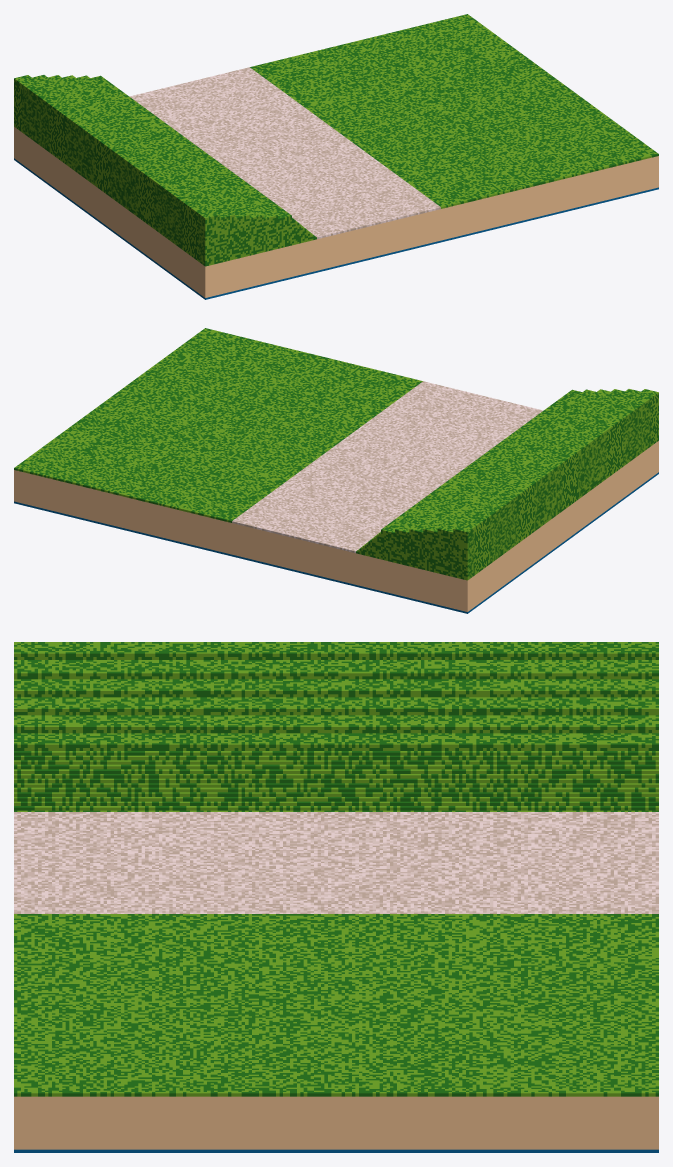
The model's file is castelloVillafranca-12.obj.
3 renders of one model, top to bottom at view 1: azimuth 30°, elevation 25°; view 2: azimuth 150°, elevation 25°; view 3: azimuth 270°, elevation 25°, orthographic. The views are drawn at different scales.
Size of the model in its own units: 25.6 by 4.4 by 18.7.
Materials: 1 (1 with a texture image).
